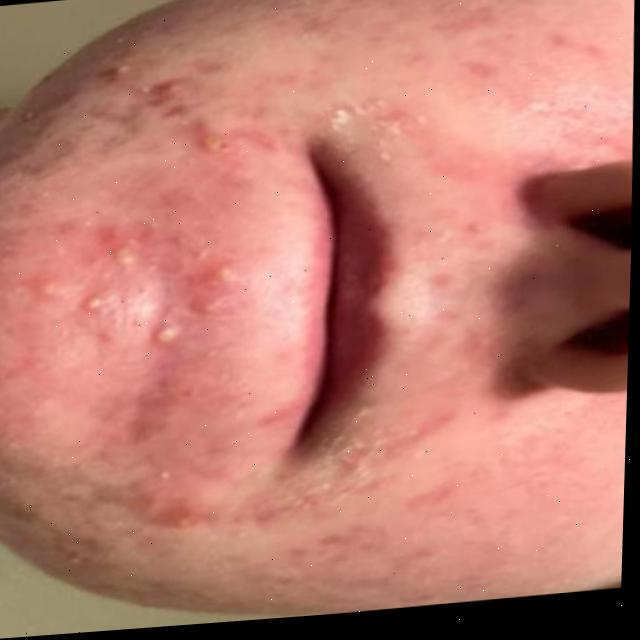Acne: (0, 64, 255, 530)
